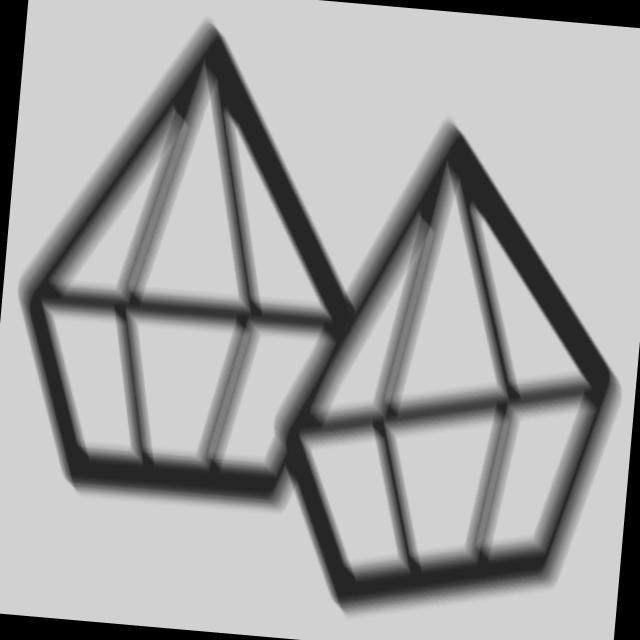diamond: (250, 96, 640, 640), (1, 1, 392, 529)
